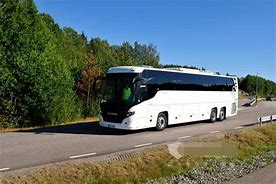bigcar: (100, 51, 239, 132)
